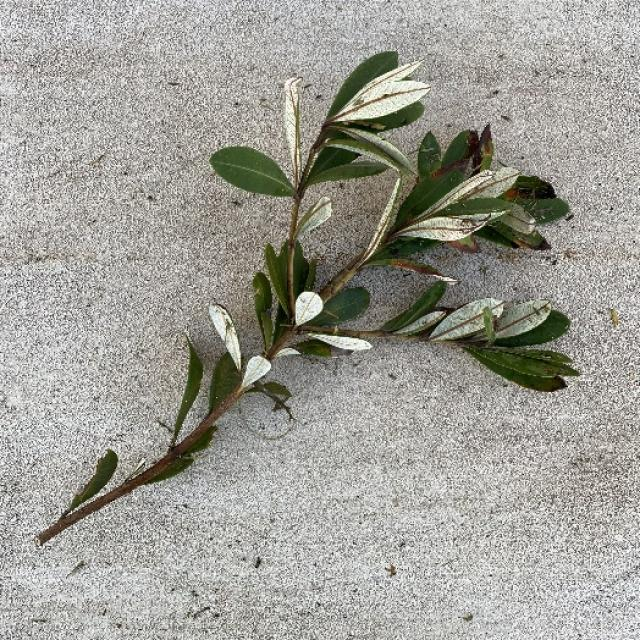organik: (53, 78, 571, 556)
